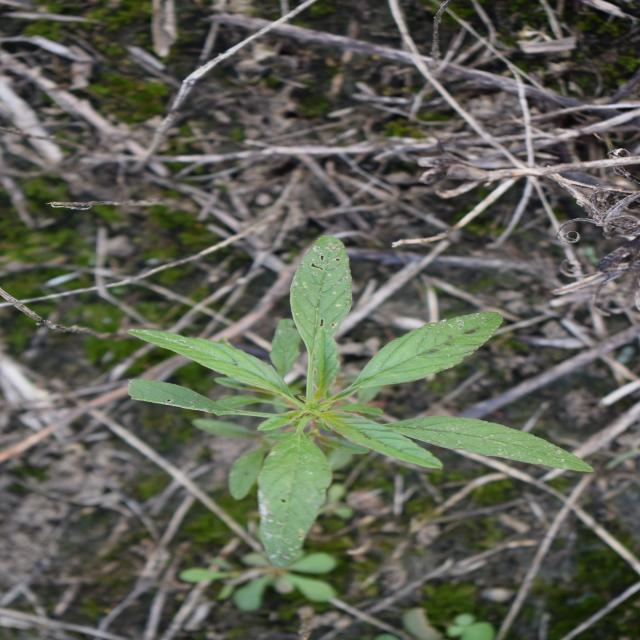Waterhemp: (122, 233, 598, 570)
